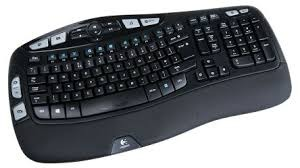keyboard: (8, 6, 290, 168)
